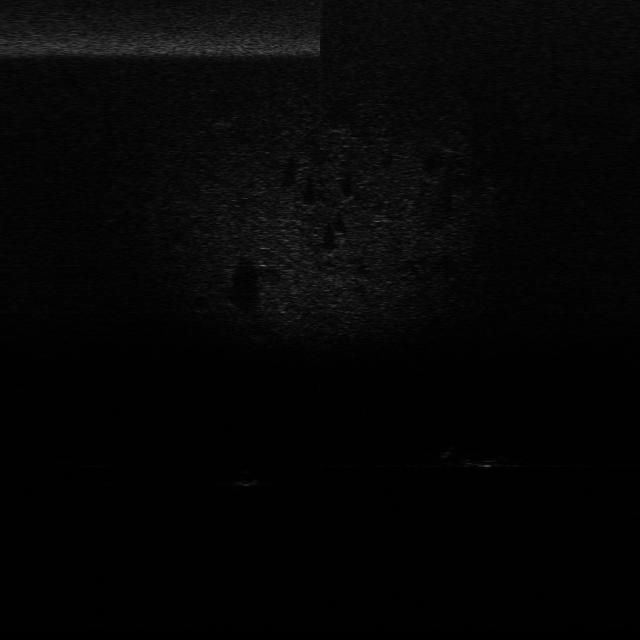ball: (234, 469, 262, 490)
human body: (434, 443, 528, 472)
